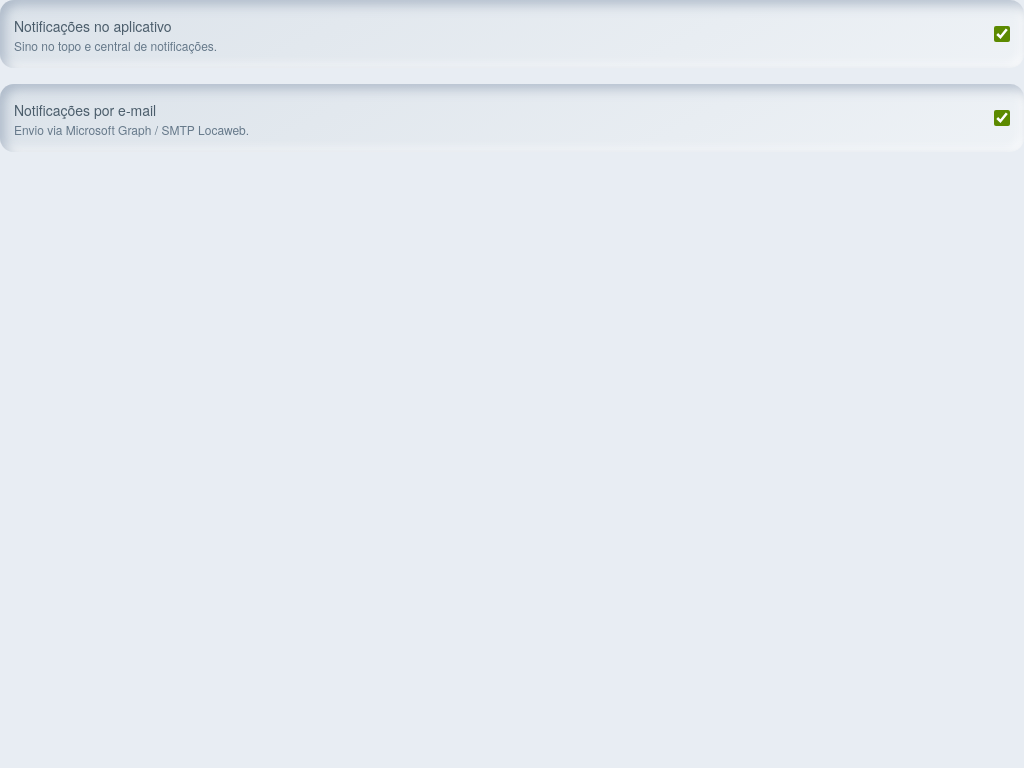
NotificationPreferencesPanel › shows a toast when saving fails
The width and height of the screenshot is (1024, 768).
Step 1. Click the checkbox labelled "Notificações por e-mail" → (1002, 118), box x1=994 y1=110 x2=1010 y2=126
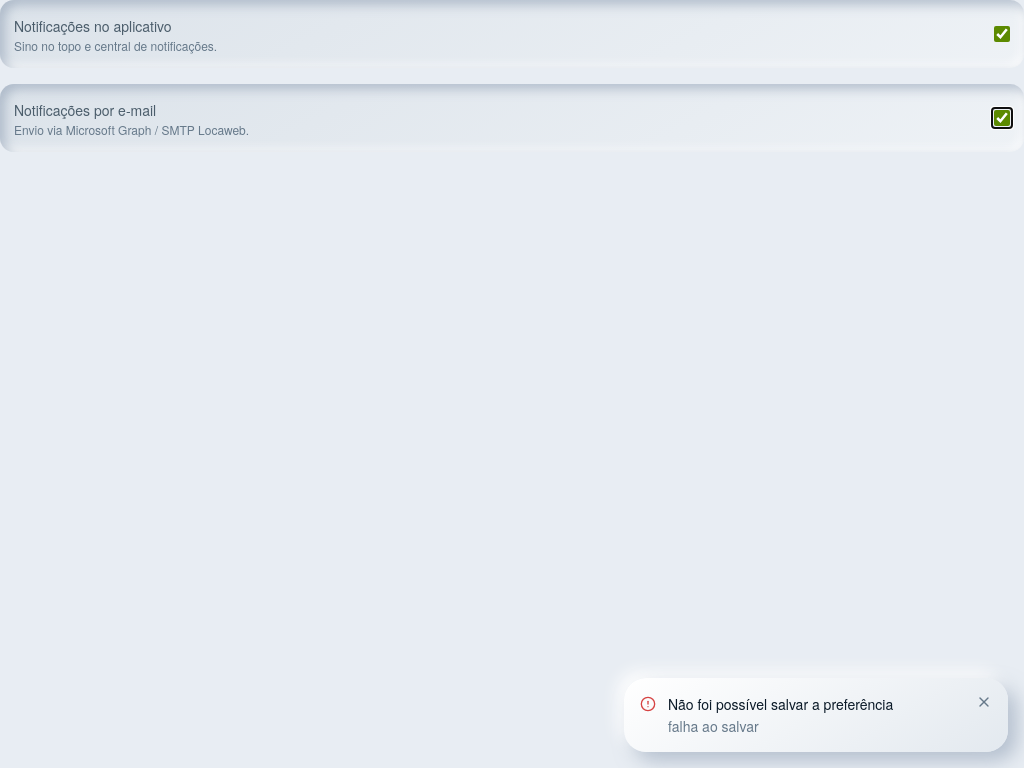
expect the text "Não foi possível salvar a preferência" is shown: met, box x1=668 y1=694 x2=893 y2=714
